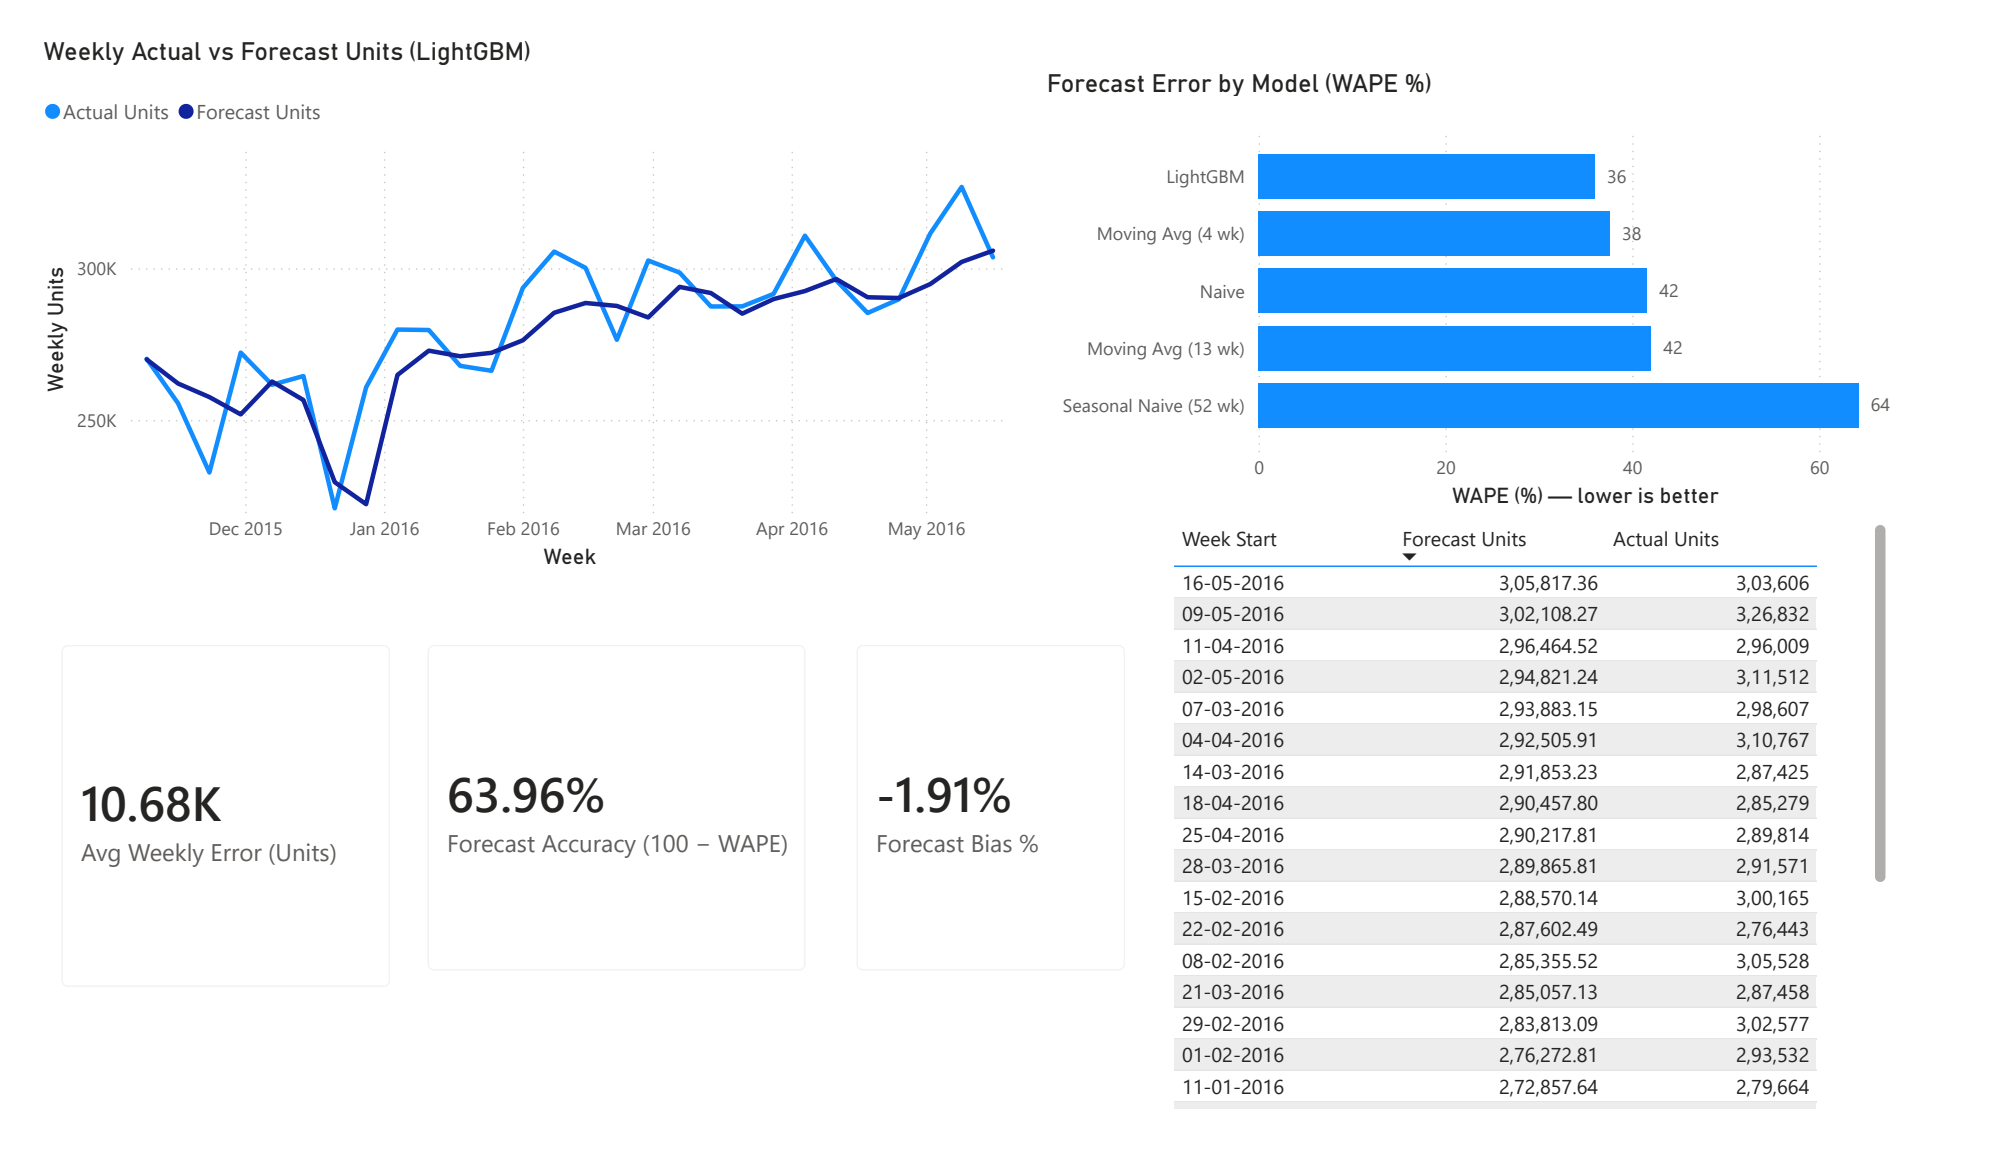

Layout of this report page (visuals, bound fields, positions):
{"tool":"powerbi","page":{"name":"Forecast Performance","canvas":[1280,720],"ordinal":1},"visuals":[{"type":"lineChart","title":"Weekly Actual vs Forecast Units (LightGBM)","fields":{"Y":["Sum(lightgbm_forecasts.actual_units)","Sum(lightgbm_forecasts.forecast_units)"],"Category":["lightgbm_forecasts.week_start"]},"box":[0,0,668.8,360],"z":0},{"type":"cardVisual","fields":{"Data":["lightgbm_forecasts.Forecast MAE"]},"box":[0,388.8,252.5,262.5],"z":1000},{"type":"tableEx","fields":{"Values":["lightgbm_forecasts.week_start","Sum(lightgbm_forecasts.forecast_units)","Sum(lightgbm_forecasts.actual_units)"]},"box":[752.5,320,486.2,400],"z":2000},{"type":"cardVisual","fields":{"Data":["lightgbm_forecasts.Forecast Accuracy %"]},"box":[243.8,388.8,286.2,251.2],"z":3000},{"type":"clusteredBarChart","title":"Forecast Error by Model (WAPE %)","fields":{"Category":["model_comparison.model"],"Y":["Avg(model_comparison.wape_pct)"]},"box":[668.8,21.2,593.8,298.8],"z":4000},{"type":"cardVisual","title":"Overall Forecast Bias %","fields":{"Data":["lightgbm_forecasts.Forecast Bias %"]},"box":[530,388.8,212.5,251.2],"z":5000}]}

Visuals, with their boxes in screenshot pixels (x1, y1, x2, y2), scaled from the page's 1280x720 canvas onto the 1992x1152 screenshot:
"Weekly Actual vs Forecast Units (LightGBM)" lineChart: box(0, 0, 1041, 576)
cardVisual - lightgbm_forecasts.Forecast MAE: box(0, 622, 393, 1042)
tableEx - lightgbm_forecasts.week_start x Sum(lightgbm_forecasts.forecast_units): box(1171, 512, 1928, 1151)
cardVisual - lightgbm_forecasts.Forecast Accuracy %: box(379, 622, 825, 1024)
"Forecast Error by Model (WAPE %)" clusteredBarChart: box(1041, 34, 1965, 512)
"Overall Forecast Bias %" cardVisual: box(825, 622, 1156, 1024)
